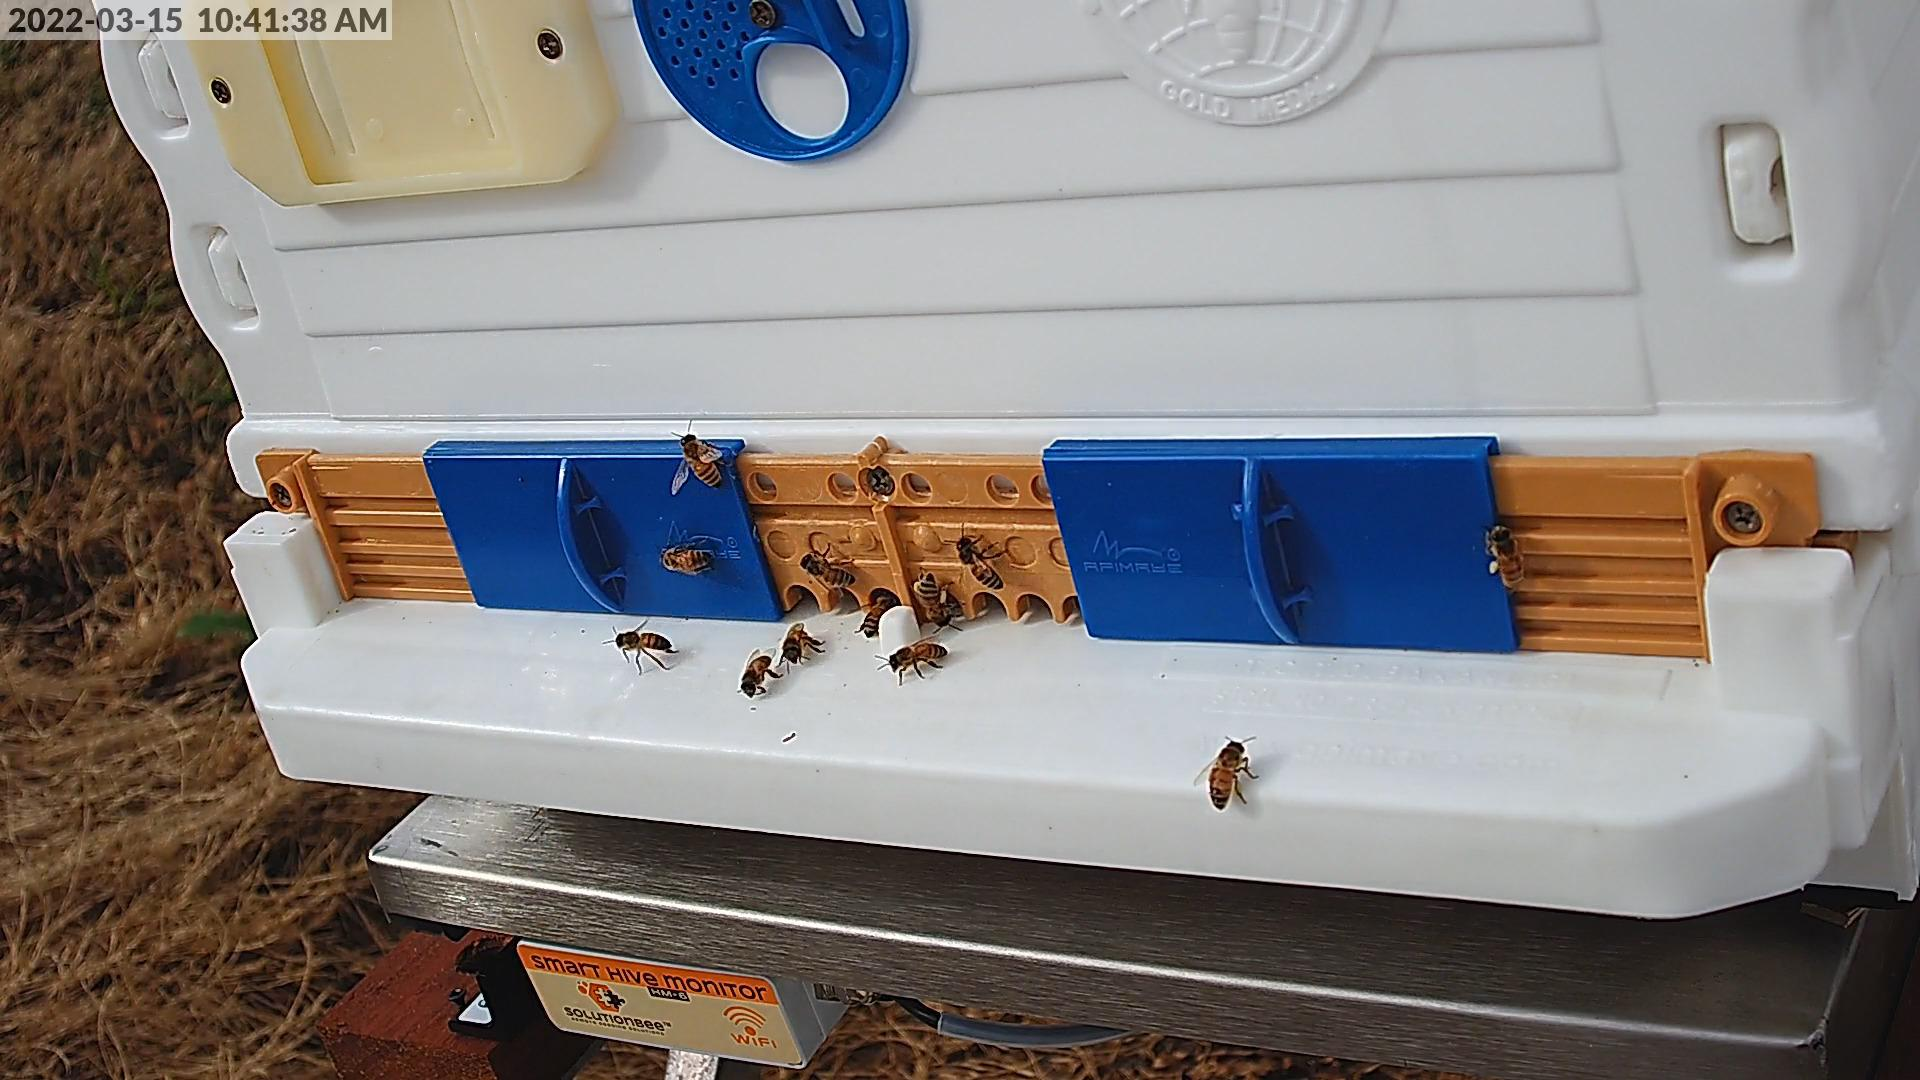bee: (1208, 741, 1246, 811), (956, 537, 1004, 588), (680, 433, 721, 489), (799, 553, 856, 589), (889, 641, 948, 673), (740, 657, 770, 699), (616, 630, 671, 653), (864, 596, 894, 637), (661, 547, 712, 570), (786, 630, 807, 662)
pollenbee: (1486, 526, 1524, 589), (910, 575, 952, 626)
